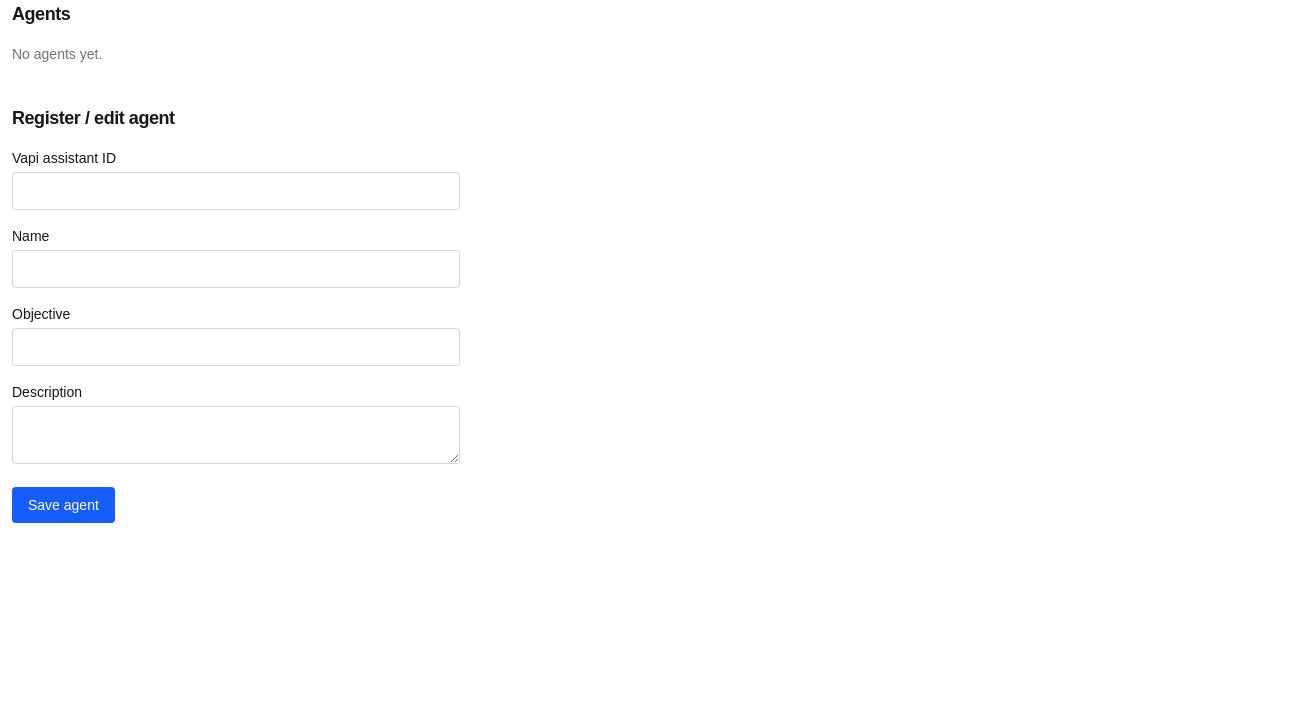
Test case: AgentsView › submits the form and refetches the list on success
Check: the text "No agents yet." is shown, box [12,46,102,62]
Type "va-1" into the field labelled "Vapi assistant ID" at (236, 191), box [12,172,460,210]
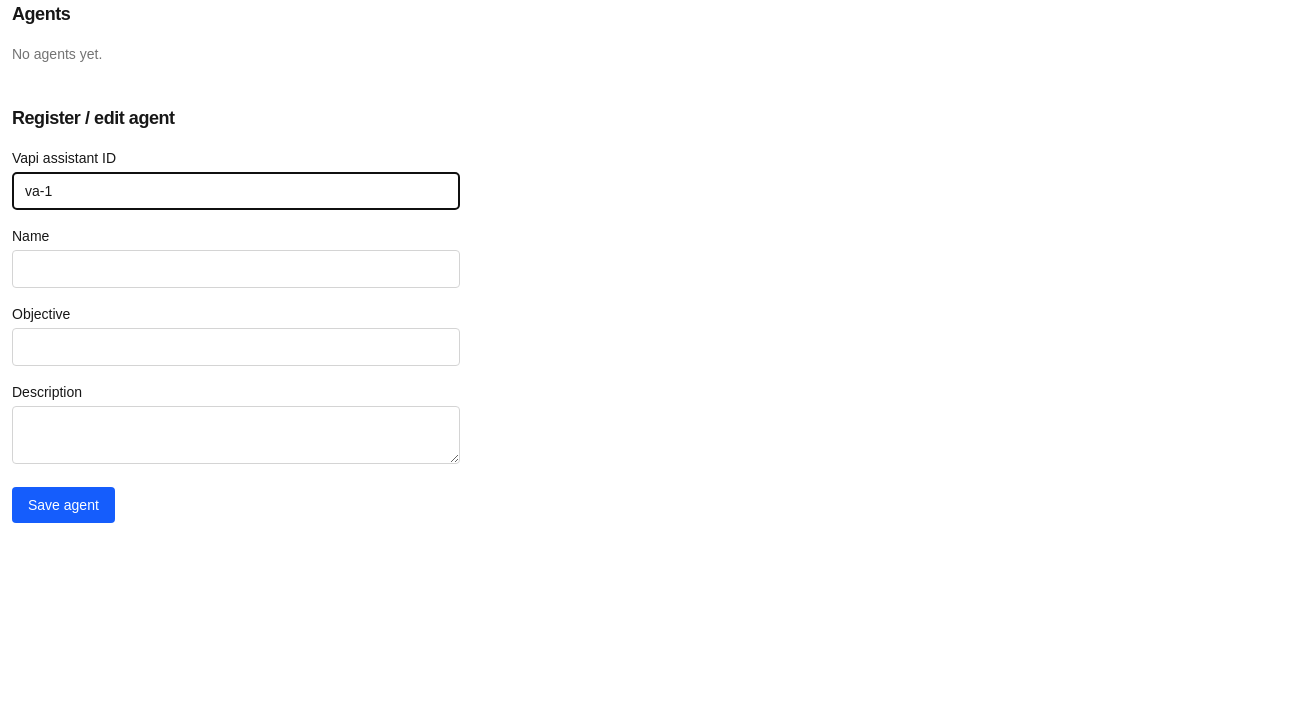
Type "Sales Agent" into the field labelled "Name" at (236, 269), box [12,250,460,288]
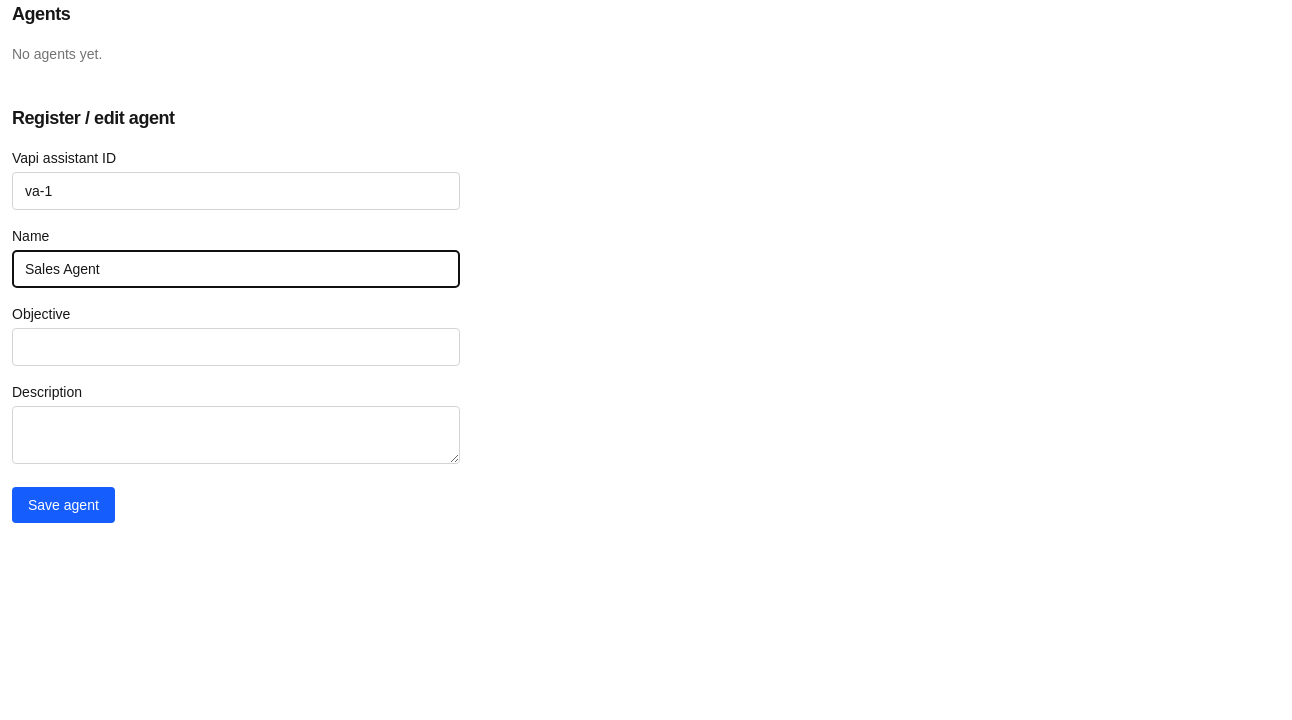
Type "Book demos" into the field labelled "Objective" at (236, 347), box [12,328,460,366]
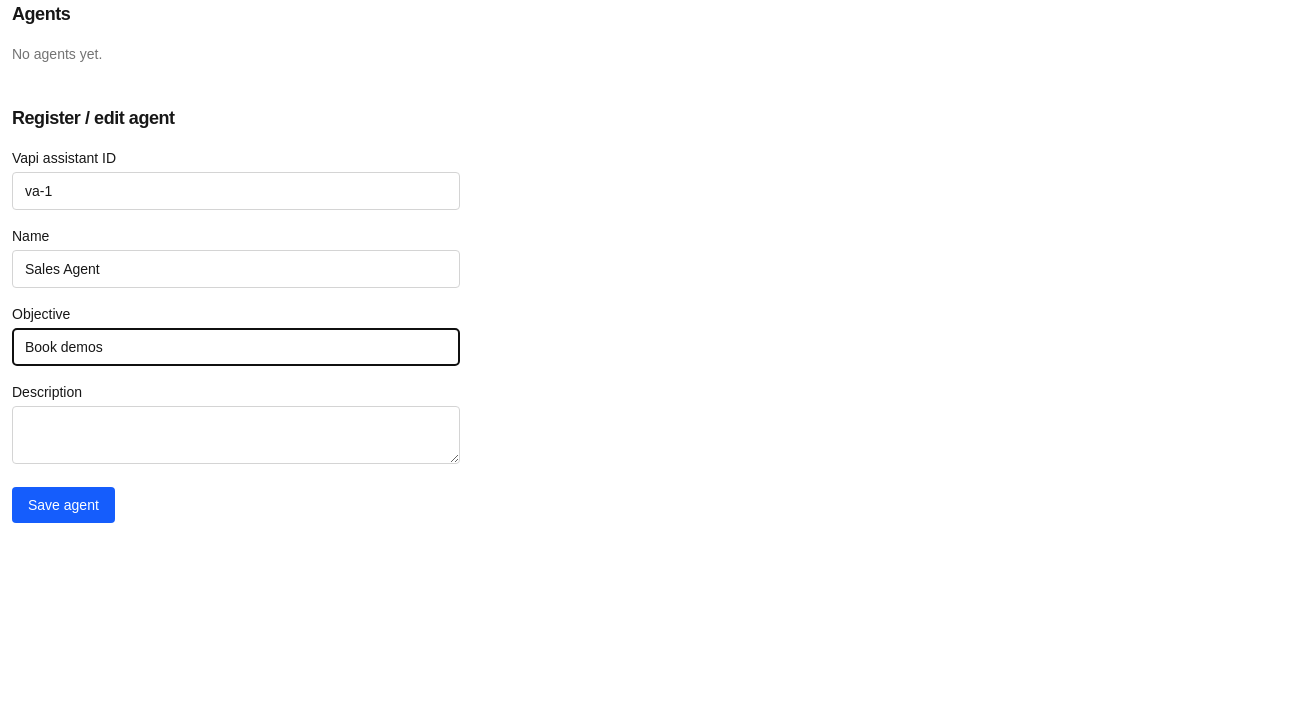
Click the button "Save agent" at (63, 505), box [12,487,115,523]
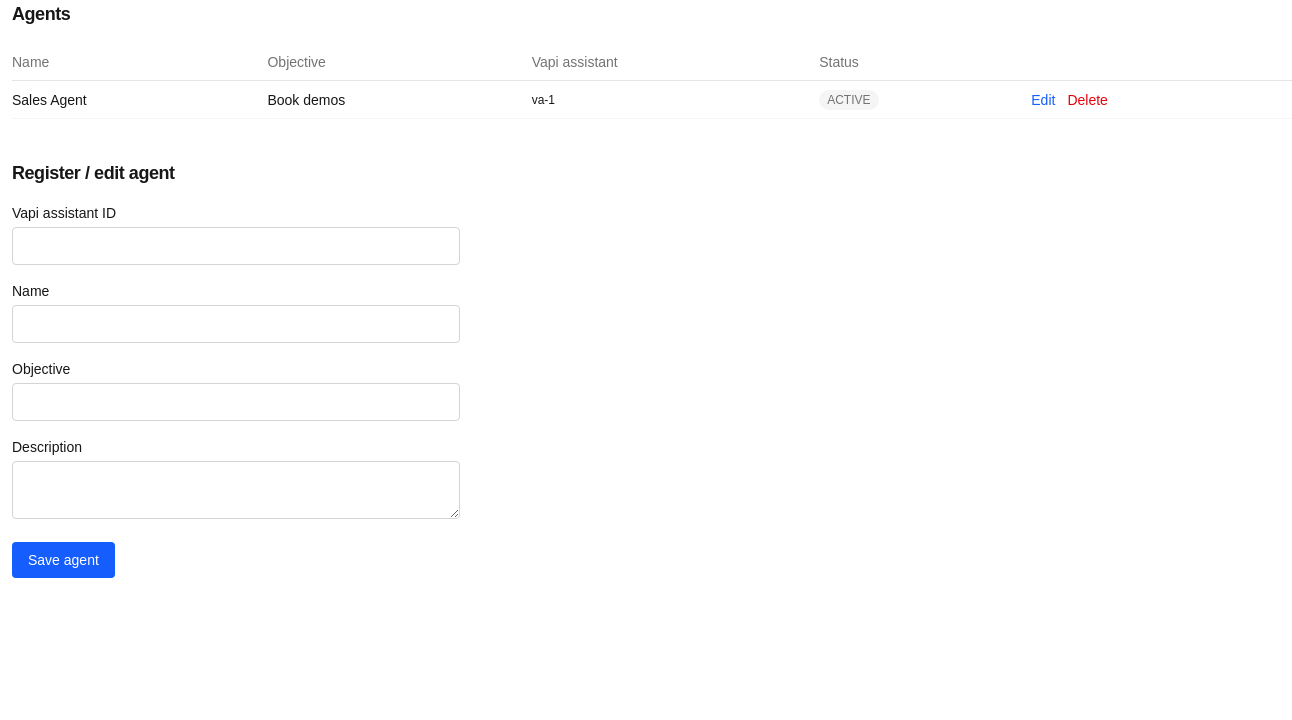
Check: the text "Sales Agent" is shown, box [12,80,268,118]
